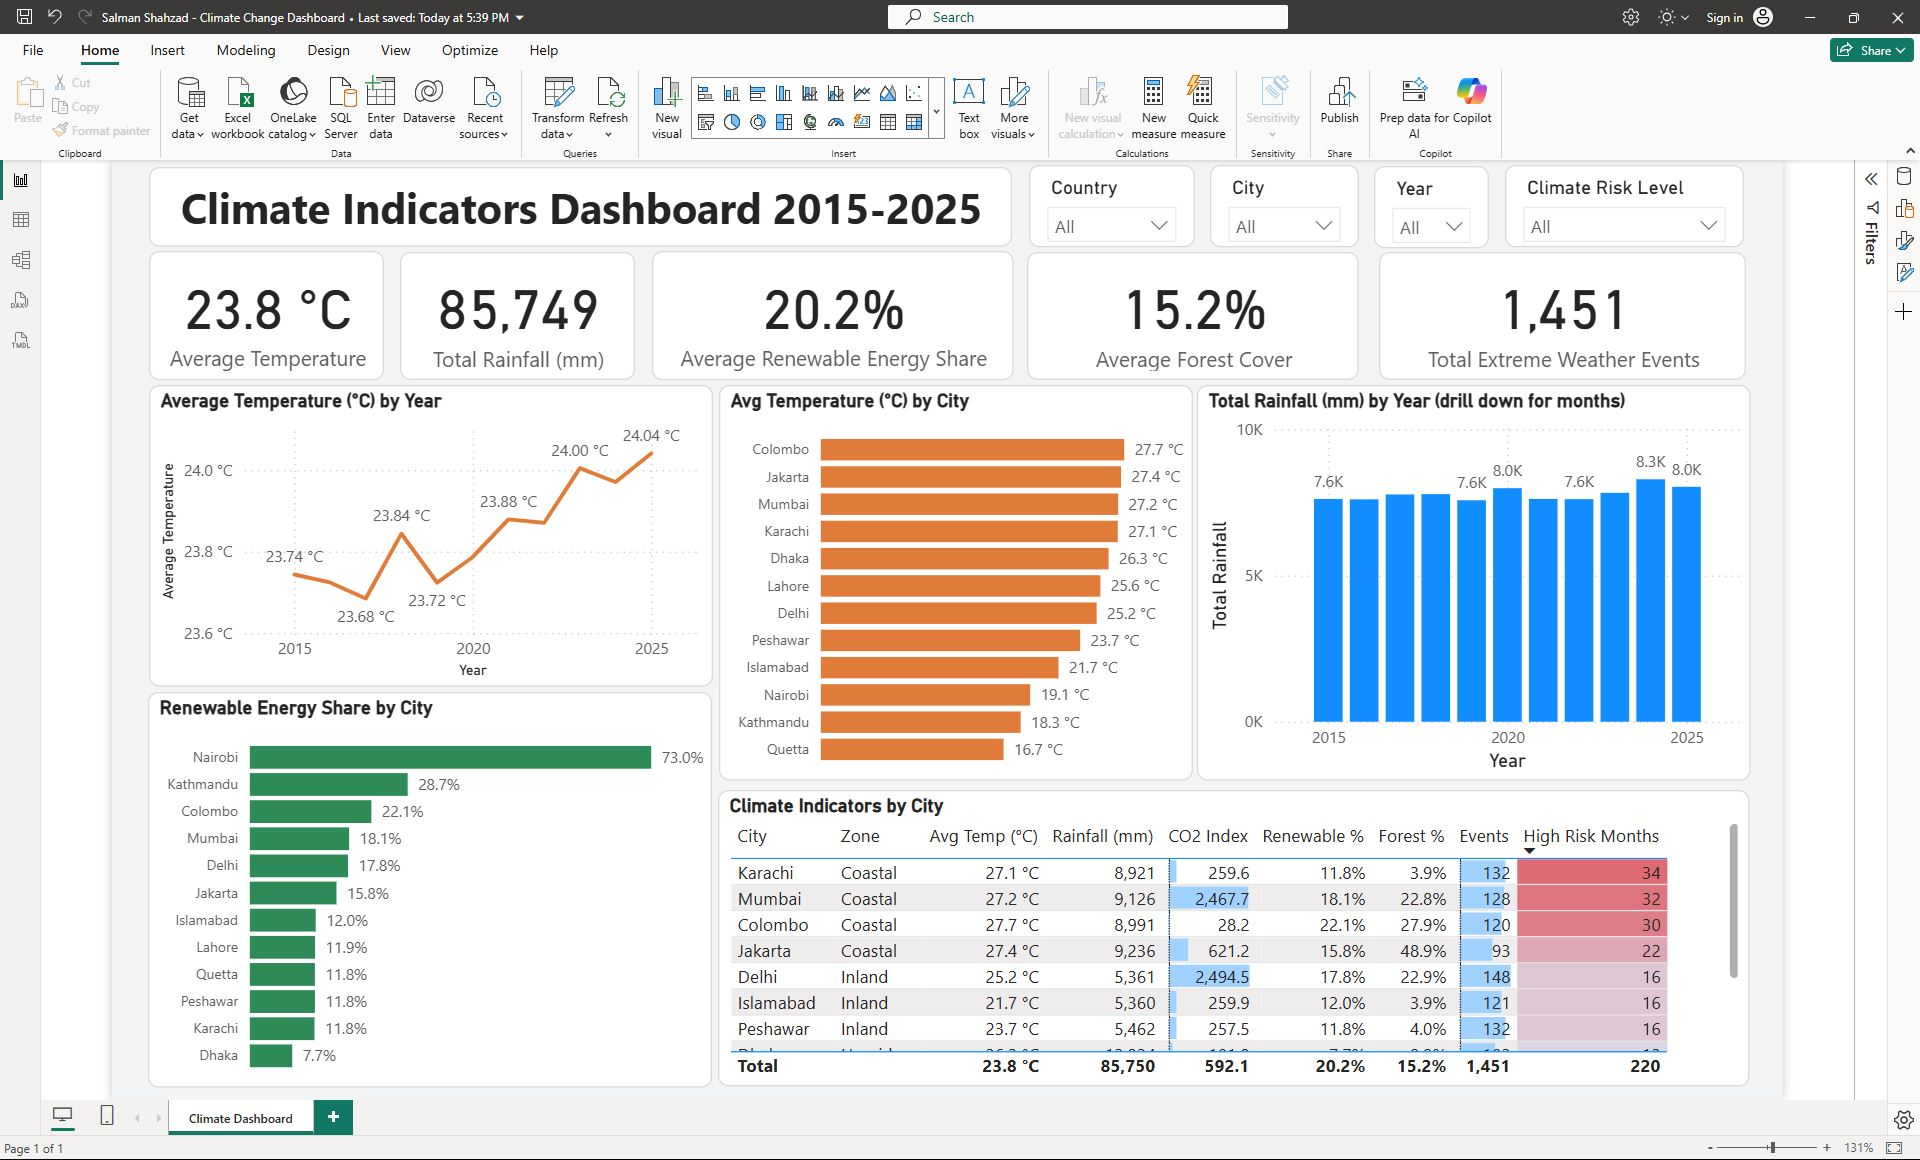

The dashboard page shown, as its layout file describes it:
{"tool":"powerbi","page":{"name":"Climate Dashboard","canvas":[1280,720],"ordinal":0},"visuals":[{"type":"textbox","box":[28.5,5.7,660.7,61.4],"z":0},{"type":"card","fields":{"Values":["_Measures.Average Temperature"]},"box":[28.1,69.5,180.5,99.2],"z":1000},{"type":"card","fields":{"Values":["_Measures.Total Rainfall"]},"box":[220.3,70.3,179.7,98.4],"z":2000},{"type":"card","fields":{"Values":["_Measures.Average Renewable Energy Share"]},"box":[413.3,69.5,276.6,99.2],"z":3000},{"type":"card","fields":{"Values":["_Measures.Total Extreme Weather Events"]},"box":[970.3,70.3,281.2,98.4],"z":4000},{"type":"lineChart","title":"Average Temperature (°C) by Year","fields":{"Category":["Date Table.Year"],"Y":["_Measures.Average Temperature"]},"box":[28,172,432,231],"z":5000},{"type":"clusteredBarChart","title":"Avg Temperature (°C) by City","fields":{"Category":["Locations.City"],"Y":["_Measures.Average Temperature"]},"box":[464.7,172.1,363.2,302.9],"z":6000},{"type":"clusteredColumnChart","title":"Total Rainfall (mm) by Year (drill down for months)","fields":{"Category":["Date Table.Year","Date Table.Month_Name"],"Y":["_Measures.Total Rainfall"]},"box":[830.9,172.1,423.5,302.9],"z":7000},{"type":"clusteredBarChart","title":"Renewable Energy Share by City","fields":{"Category":["Locations.City"],"Y":["_Measures.Average Renewable Energy Share"]},"box":[27.9,407.4,432.4,302.9],"z":8000},{"type":"tableEx","title":"Climate Indicators by City","fields":{"Values":["Locations.City","Locations.Climate_Zone","_Measures.Average Temperature","_Measures.Total Rainfall","_Measures.CO2 Emissions Index","_Measures.Average Renewable Energy Share","_Measures.Average Forest Cover","_Measures.Total Extreme Weather Events","_Measures.High Risk Months"]},"box":[464.3,482.9,790,227.1],"z":9000},{"type":"slicer","fields":{"Values":["Locations.City"]},"box":[840.9,3.9,114.1,63.3],"z":10000},{"type":"slicer","fields":{"Values":["Locations.Country"]},"box":[702.3,3.9,126.6,63.3],"z":11000},{"type":"slicer","fields":{"Values":["Date Table.Year"]},"box":[966.9,4.7,88.3,62.5],"z":12000},{"type":"slicer","fields":{"Values":["Climate Observations.Climate Risk Level"]},"box":[1067.2,3.9,182.8,63.3],"z":13000},{"type":"card","fields":{"Values":["_Measures.Average Forest Cover"]},"box":[700.8,70.3,253.9,98.4],"z":14000}]}

Visuals, with their boxes on the page's 1280x720 design canvas (x1, y1, x2, y2). These are canvas units, not pixel positions in the 1920x1160 screenshot, which may show the page scaled, cropped or inside an application window:
textbox: [28,6,689,67]
card - _Measures.Average Temperature: [28,70,209,169]
card - _Measures.Total Rainfall: [220,70,400,169]
card - _Measures.Average Renewable Energy Share: [413,70,690,169]
card - _Measures.Total Extreme Weather Events: [970,70,1252,169]
"Average Temperature (°C) by Year" lineChart: [28,172,460,403]
"Avg Temperature (°C) by City" clusteredBarChart: [465,172,828,475]
"Total Rainfall (mm) by Year (drill down for months)" clusteredColumnChart: [831,172,1254,475]
"Renewable Energy Share by City" clusteredBarChart: [28,407,460,710]
"Climate Indicators by City" tableEx: [464,483,1254,710]
slicer - Locations.City: [841,4,955,67]
slicer - Locations.Country: [702,4,829,67]
slicer - Date Table.Year: [967,5,1055,67]
slicer - Climate Observations.Climate Risk Level: [1067,4,1250,67]
card - _Measures.Average Forest Cover: [701,70,955,169]
